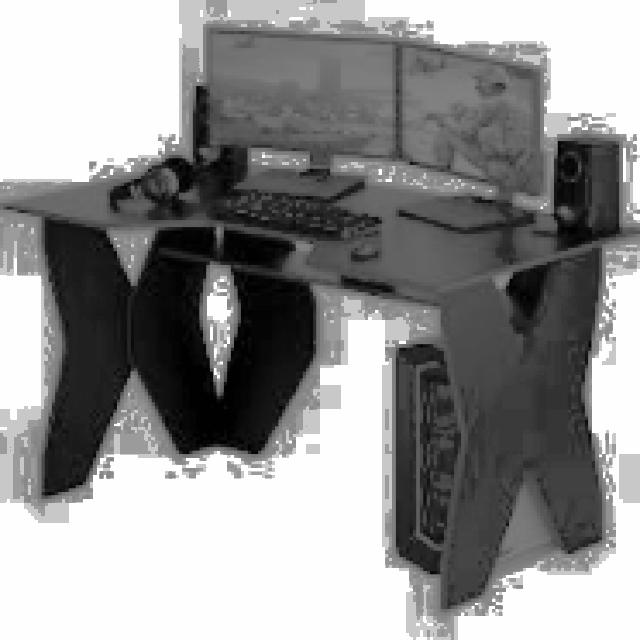table: (0, 151, 637, 609)
